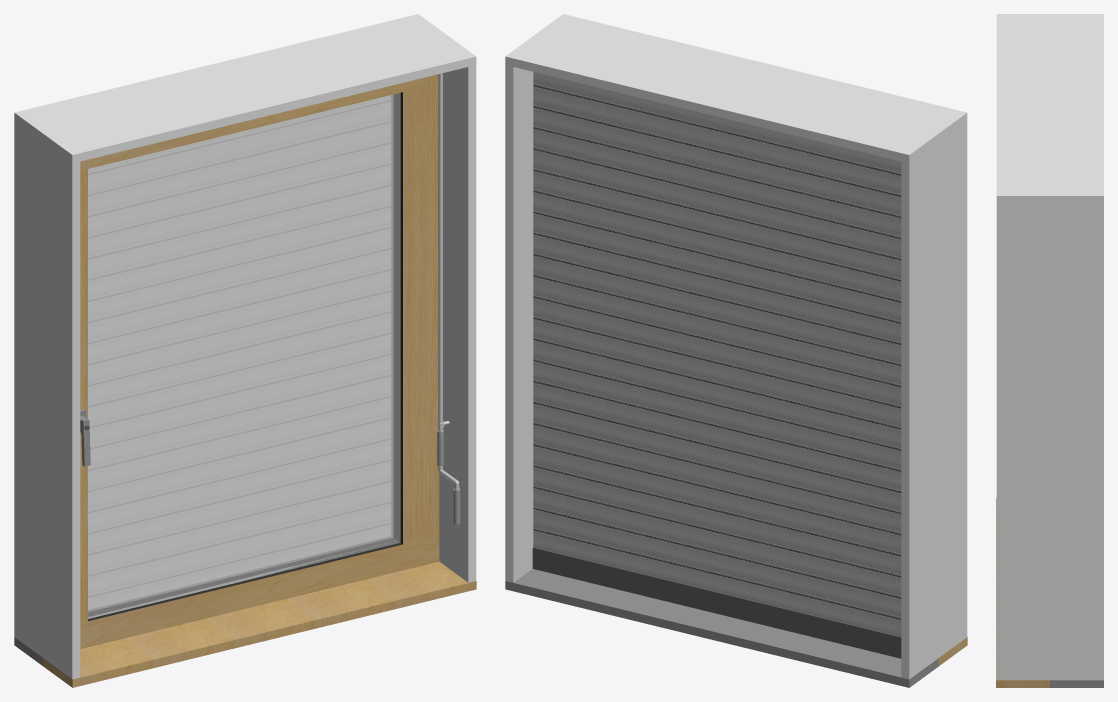
Rendered from window2.obj.
3 renders of one model, left to right at view 1: azimuth 30°, elevation 25°; view 2: azimuth 150°, elevation 25°; view 3: azimuth 270°, elevation 25°, orthographic. The views are drawn at different scales.
Visible parts, largest first — view 1: sweethome3d_opening_on_hinge_1_Window_Pane_wall_1_6_6_30, sweethome3d_opening_on_rail_1_Roller_Shutter_Foot_back_119, Inside_Walls|bottom_163, sweethome3d_rail_1_Outside_Walls_back_179, sweethome3d_opening_on_hinge_1_Inside_Inner_Frame_top_74, Inside_Ledge|bottom_187, Inside_Outer_Frame|front_6, sweethome3d_opening_on_hinge_1_Outside_Inner_Frame_left_39, sweethome3d_opening_on_hinge_2_Roller_Shutter_Crank_Cylinde.000; view 2: sweethome3d_opening_on_rail_1_Roller_Shutter_Foot_back_119, sweethome3d_rail_1_Outside_Walls_back_179, Inside_Walls|bottom_163, Outside_Ledge|bottom_193; view 3: sweethome3d_rail_1_Outside_Walls_back_179, Inside_Walls|bottom_163, Inside_Ledge|bottom_187, Outside_Ledge|bottom_193.
Part boxes in pixels (<box>): sweethome3d_opening_on_hinge_1_Window_Pane_wall_1_6_6_30: <box>88,93,400,618</box>; sweethome3d_opening_on_rail_1_Roller_Shutter_Foot_back_119: <box>88,95,390,609</box>; Inside_Walls|bottom_163: <box>43,35,476,679</box>; sweethome3d_rail_1_Outside_Walls_back_179: <box>14,14,446,657</box>; sweethome3d_opening_on_hinge_1_Inside_Inner_Frame_top_74: <box>80,78,422,644</box>; Inside_Ledge|bottom_187: <box>43,561,476,687</box>; Inside_Outer_Frame|front_6: <box>80,74,439,648</box>; sweethome3d_opening_on_hinge_1_Outside_Inner_Frame_left_39: <box>88,92,402,621</box>; sweethome3d_opening_on_hinge_2_Roller_Shutter_Crank_Cylinde.000: <box>437,73,460,524</box>; sweethome3d_opening_on_rail_1_Roller_Shutter_Foot_back_119: <box>532,72,901,658</box>; sweethome3d_rail_1_Outside_Walls_back_179: <box>505,35,938,679</box>; Inside_Walls|bottom_163: <box>534,14,967,657</box>; Outside_Ledge|bottom_193: <box>505,569,938,687</box>; sweethome3d_rail_1_Outside_Walls_back_179: <box>1050,14,1103,680</box>; Inside_Walls|bottom_163: <box>996,14,1049,680</box>; Inside_Ledge|bottom_187: <box>996,498,1049,687</box>; Outside_Ledge|bottom_193: <box>1050,680,1103,687</box>.
Size of the model in its own units: 100 by 126 by 25.
Materials: 18 (4 with a texture image).
